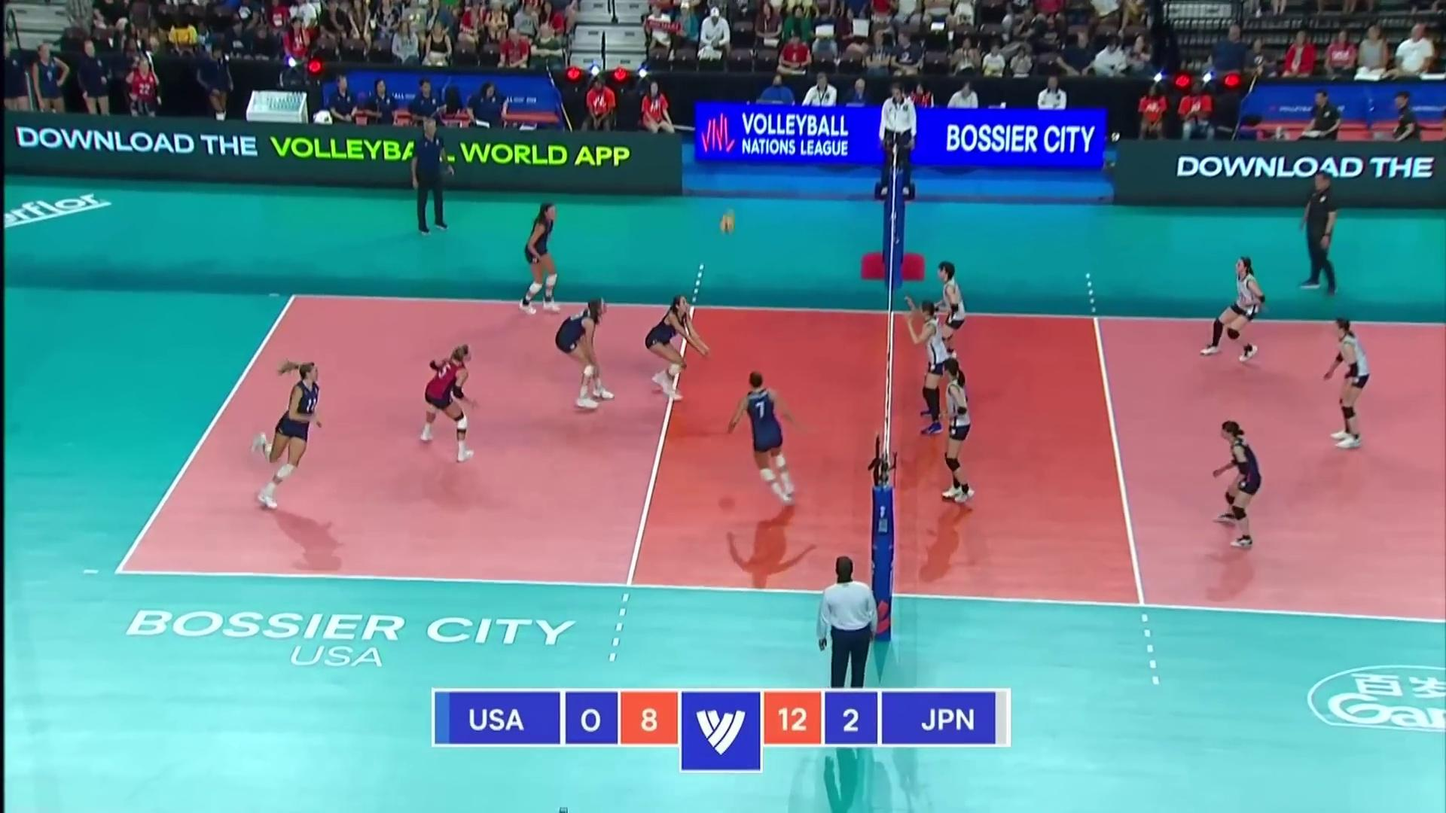player: (726, 372, 810, 507), (249, 364, 323, 512), (646, 296, 713, 405), (417, 347, 481, 459), (1199, 259, 1266, 364), (555, 300, 617, 412), (1211, 419, 1263, 548), (903, 292, 948, 432), (1327, 319, 1373, 446), (935, 358, 973, 504), (515, 202, 561, 317), (931, 261, 968, 388)
refree: (820, 556, 880, 694), (876, 81, 917, 195)
